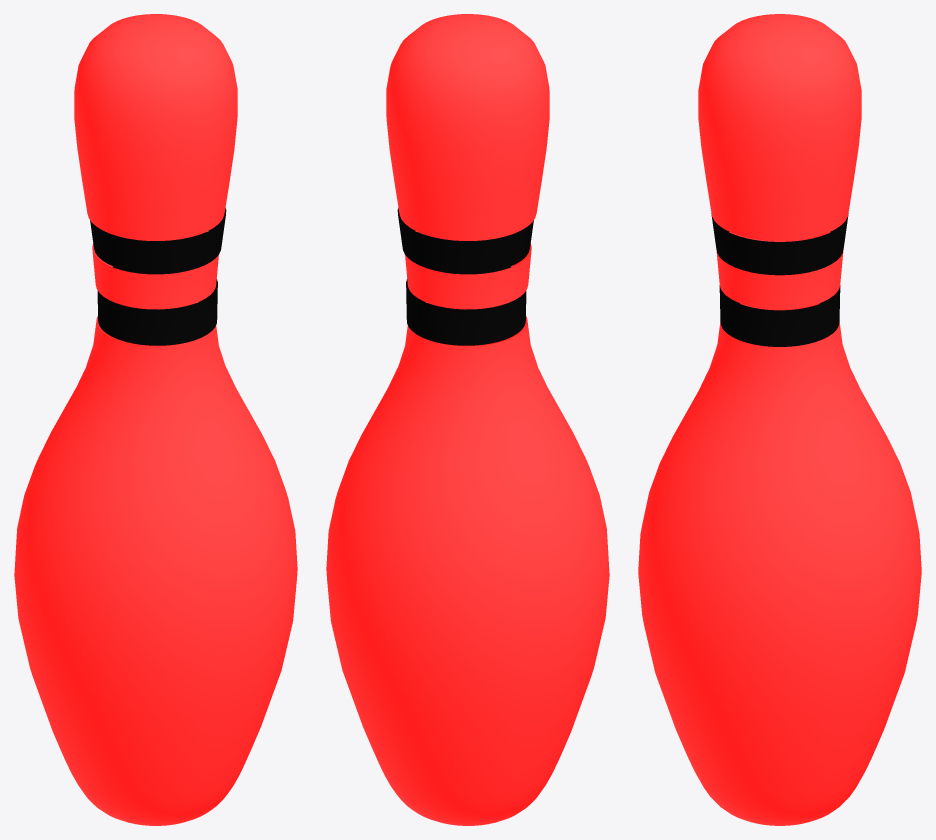
The model's file is mammanostra.glb.
The picture shows the model from 3 angles, left to right: view 1: azimuth 30°, elevation 25°; view 2: azimuth 150°, elevation 25°; view 3: azimuth 270°, elevation 25°; orthographic projection.
Visible parts, largest first — view 1: CUBezierCurve001, CUBezierCurve001_1; view 2: CUBezierCurve001, CUBezierCurve001_1; view 3: CUBezierCurve001, CUBezierCurve001_1.
Boxes of the visible parts, x1,y1,x2,y2 form: CUBezierCurve001: (14, 14, 297, 825); CUBezierCurve001_1: (90, 208, 226, 345); CUBezierCurve001: (326, 14, 609, 825); CUBezierCurve001_1: (397, 208, 533, 345); CUBezierCurve001: (638, 14, 921, 825); CUBezierCurve001_1: (711, 213, 848, 346).
Size of the model in its own units: 1.24 by 3.8 by 1.24.
